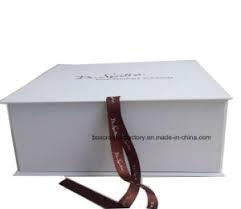Cardboard: (12, 45, 241, 195)
